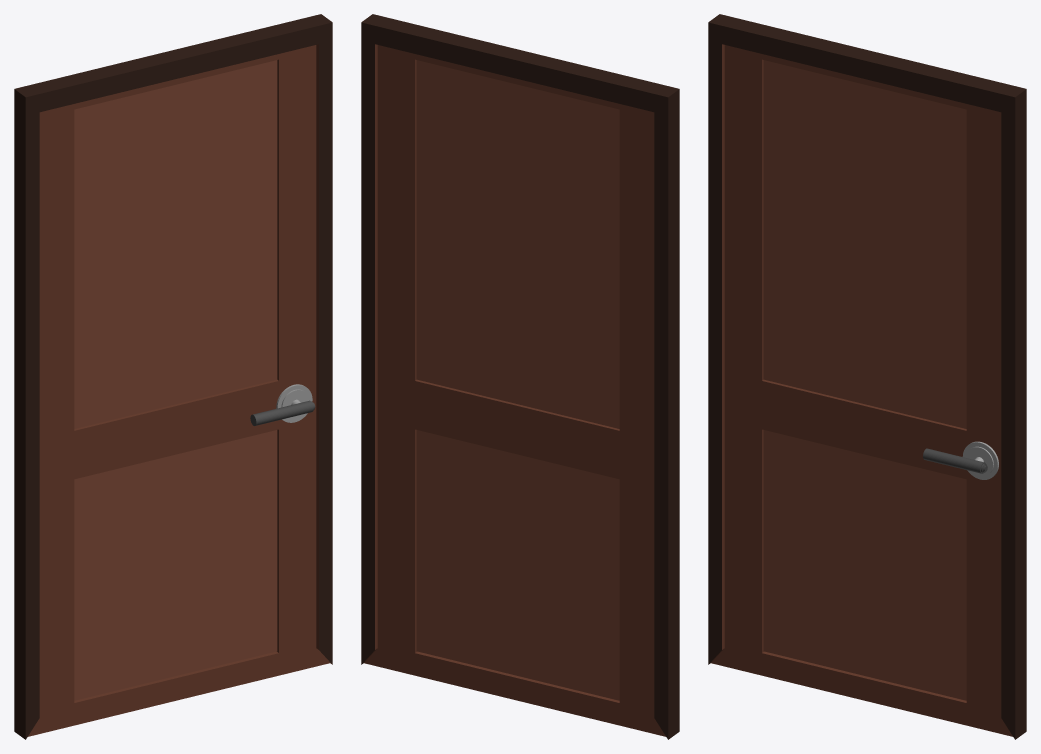
The model's file is Door01.fbx.
3 views of the same model, side by side, from view 1: azimuth 30°, elevation 25°; view 2: azimuth 150°, elevation 25°; view 3: azimuth 330°, elevation 25° (orthographic).
Visible parts, largest first — view 1: Door, Frame, Handle; view 2: Door, Frame; view 3: Door, Frame, Handle.
Part boxes in pixels (left/top/right/bottom): Door: left=39, top=45, right=316, bottom=715; Frame: left=14, top=14, right=332, bottom=739; Handle: left=250, top=384, right=315, bottom=425; Door: left=377, top=45, right=654, bottom=715; Frame: left=361, top=14, right=679, bottom=739; Door: left=724, top=45, right=1001, bottom=715; Frame: left=708, top=14, right=1026, bottom=739; Handle: left=923, top=441, right=998, bottom=479.
Size of the model in its own units: 300 by 600 by 32.89.
